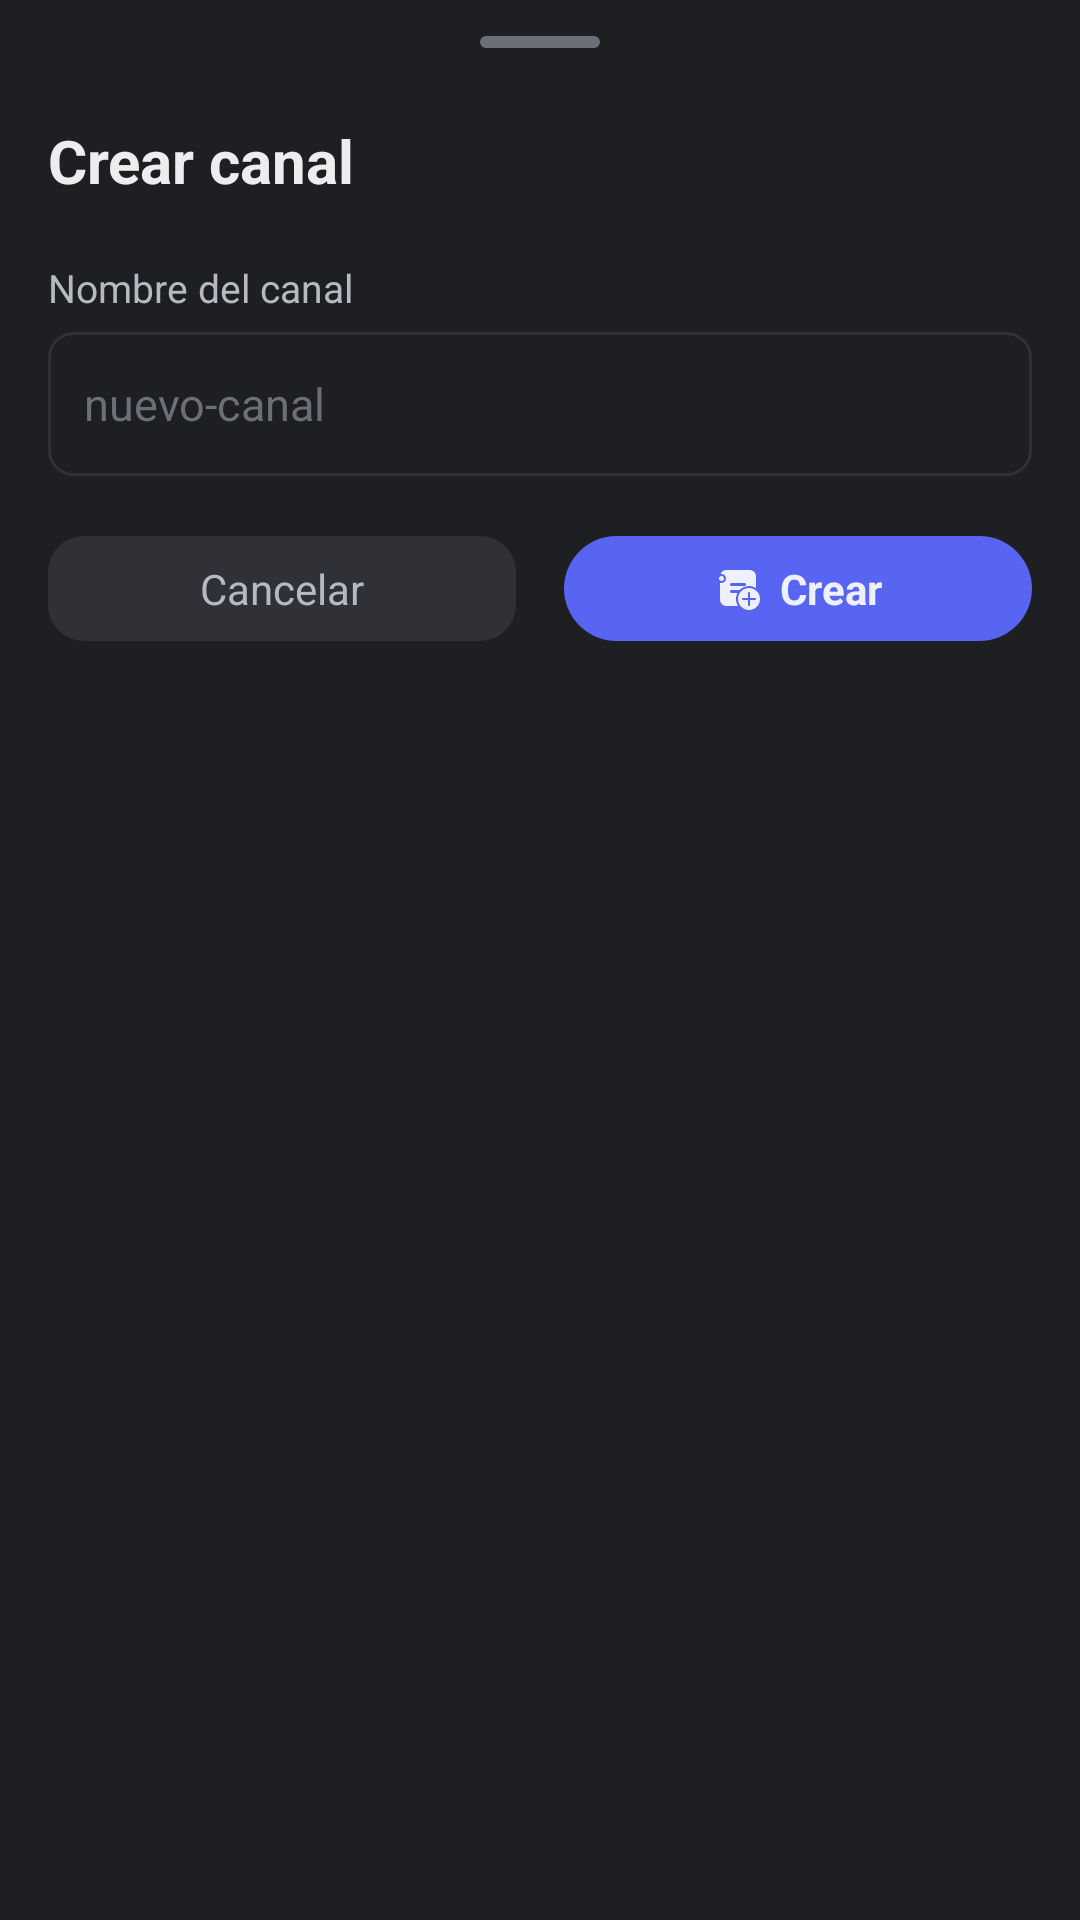

Icons on this 1080*1920 Android screen, each with its box as box=[x1, y1, x2, y2]:
channel add: box=[719, 570, 760, 610]
